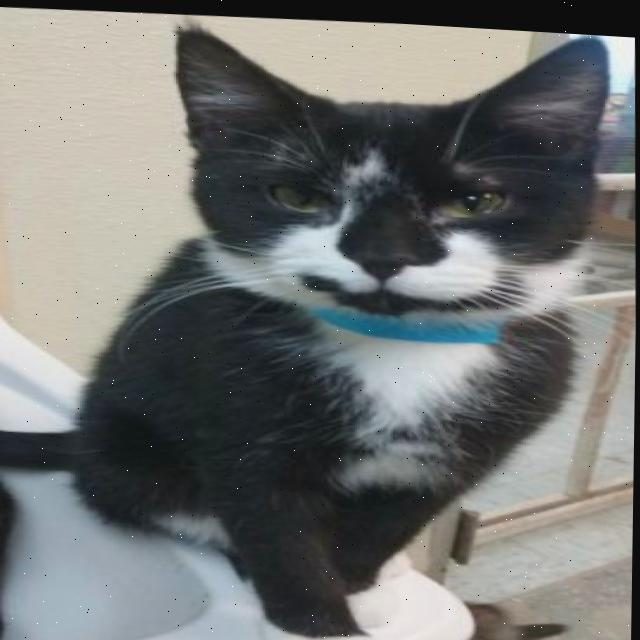Tuxedo: (0, 0, 626, 640)
